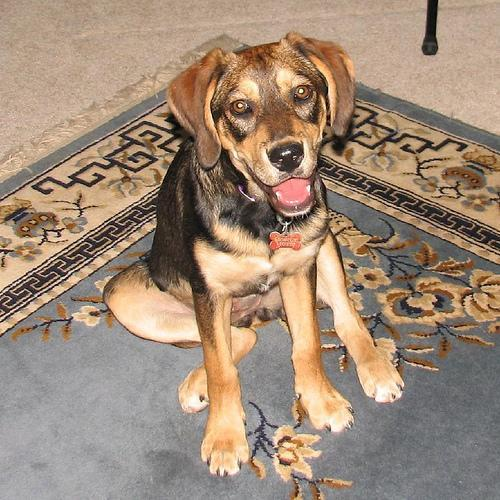German_shepherd: (103, 33, 406, 475)
